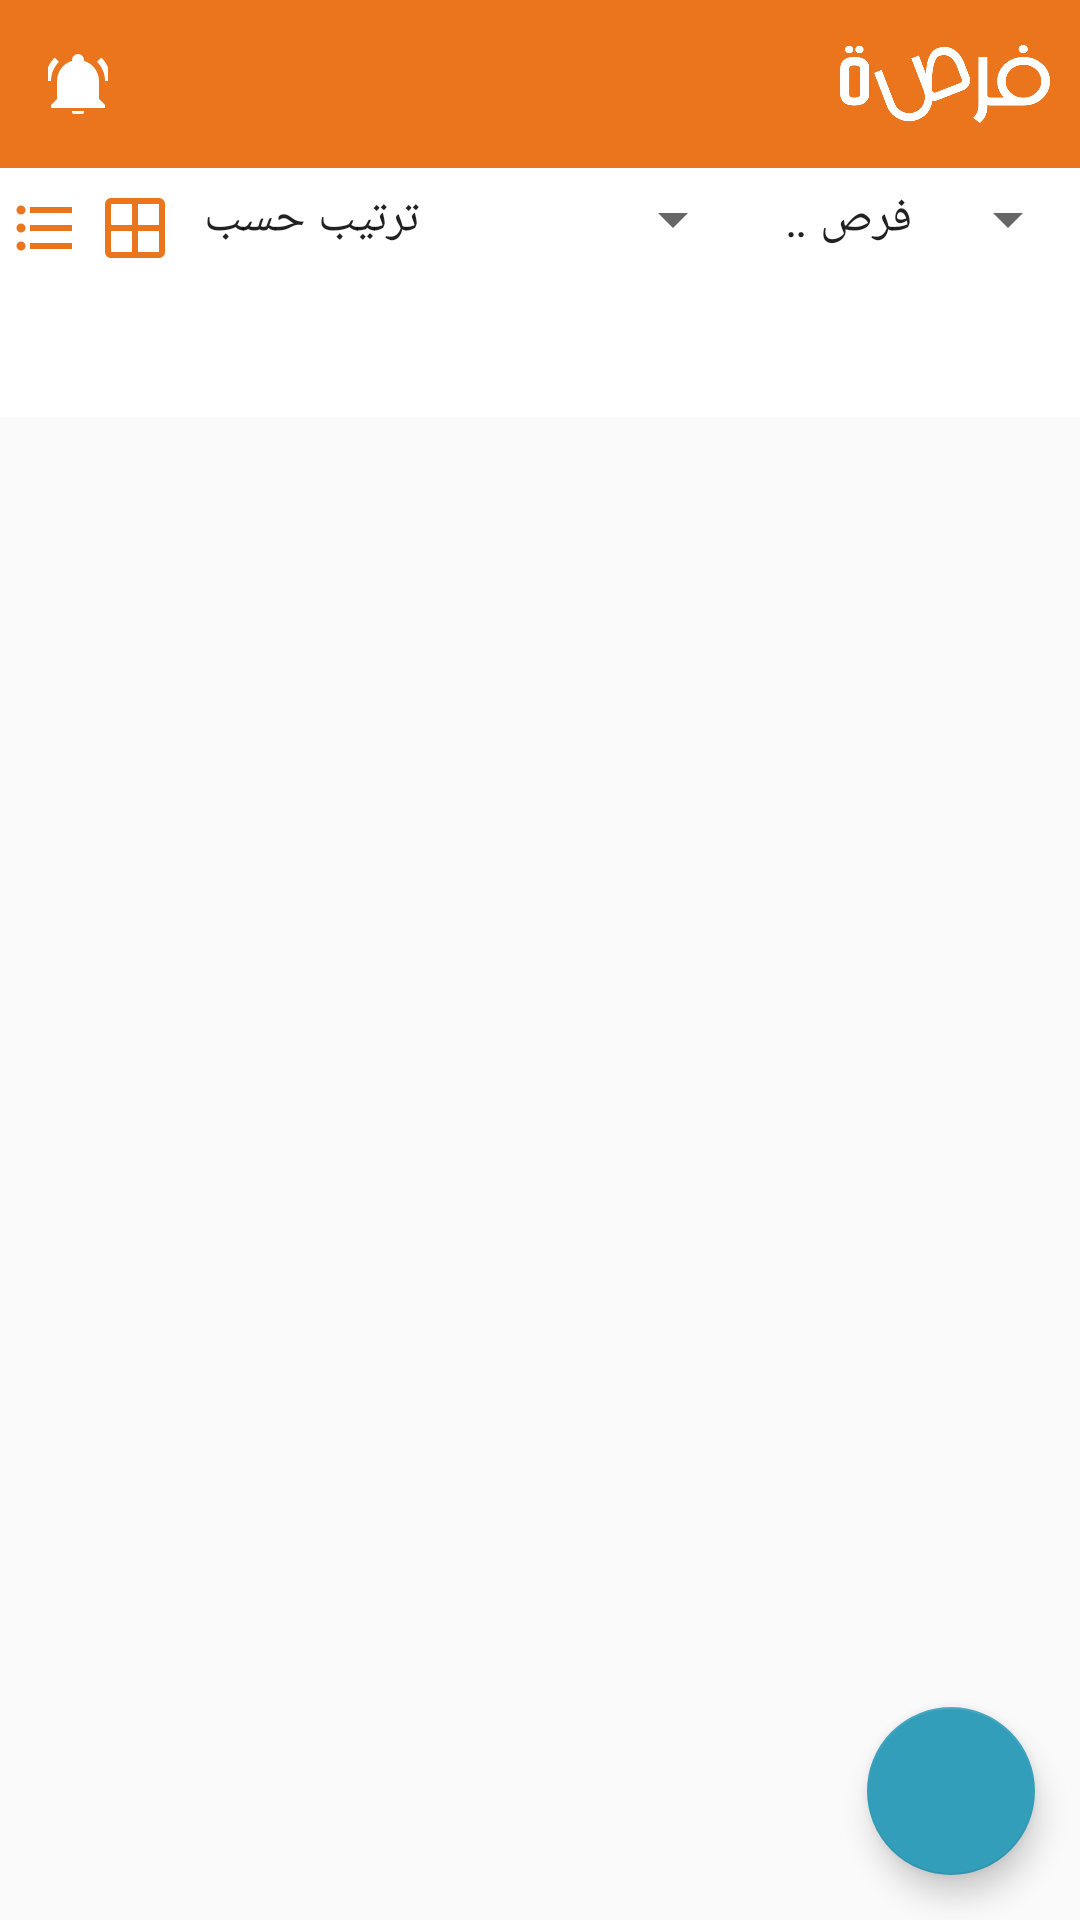

Where to tap for icons on this 1080×1920 app screen, as [x,y]:
grid: [135,228]
list: [44,228]
ring: [78,84]
